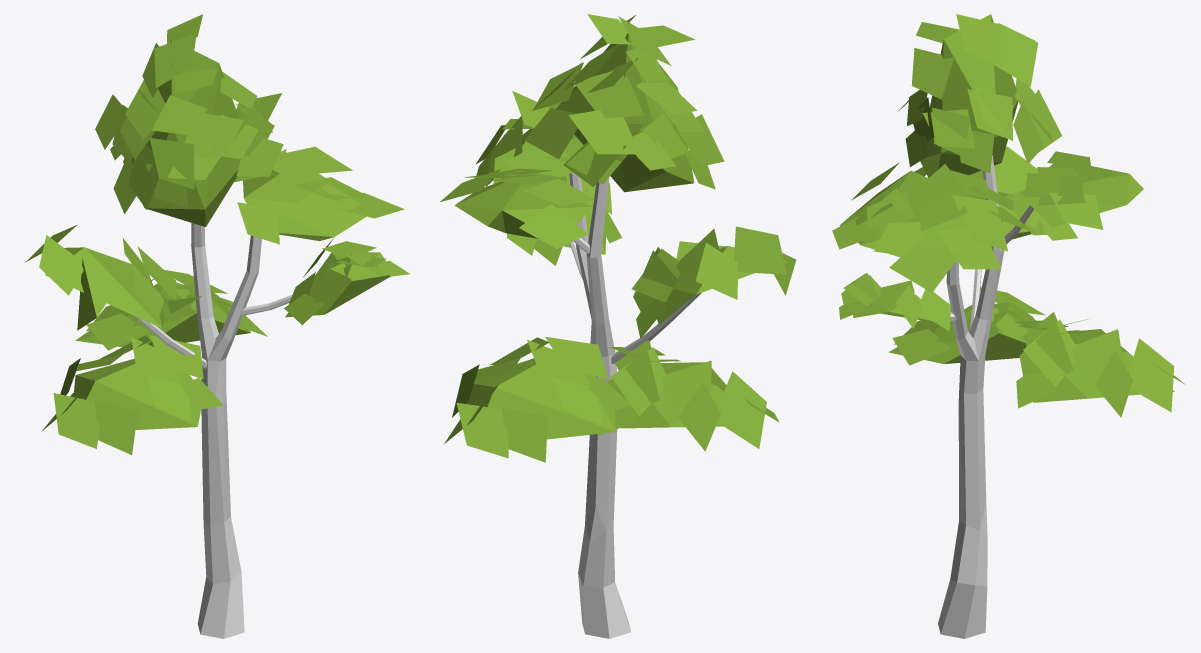
Rendered from tree-oak-sapling-a.gltf.
3 renders of one model, left to right at view 1: azimuth 30°, elevation 25°; view 2: azimuth 150°, elevation 25°; view 3: azimuth 270°, elevation 25°, orthographic. The views are drawn at different scales.
Visible parts, largest first — view 1: tree-oak-sapling-a; view 2: tree-oak-sapling-a; view 3: tree-oak-sapling-a.
Boxes of the visible parts, box(x1,y1,x2,y2) form: tree-oak-sapling-a: box(25, 14, 409, 638); tree-oak-sapling-a: box(440, 14, 796, 638); tree-oak-sapling-a: box(832, 14, 1185, 638).
Bounding box in the file's own units: 0.0133 × 0.0231 × 0.0121.
